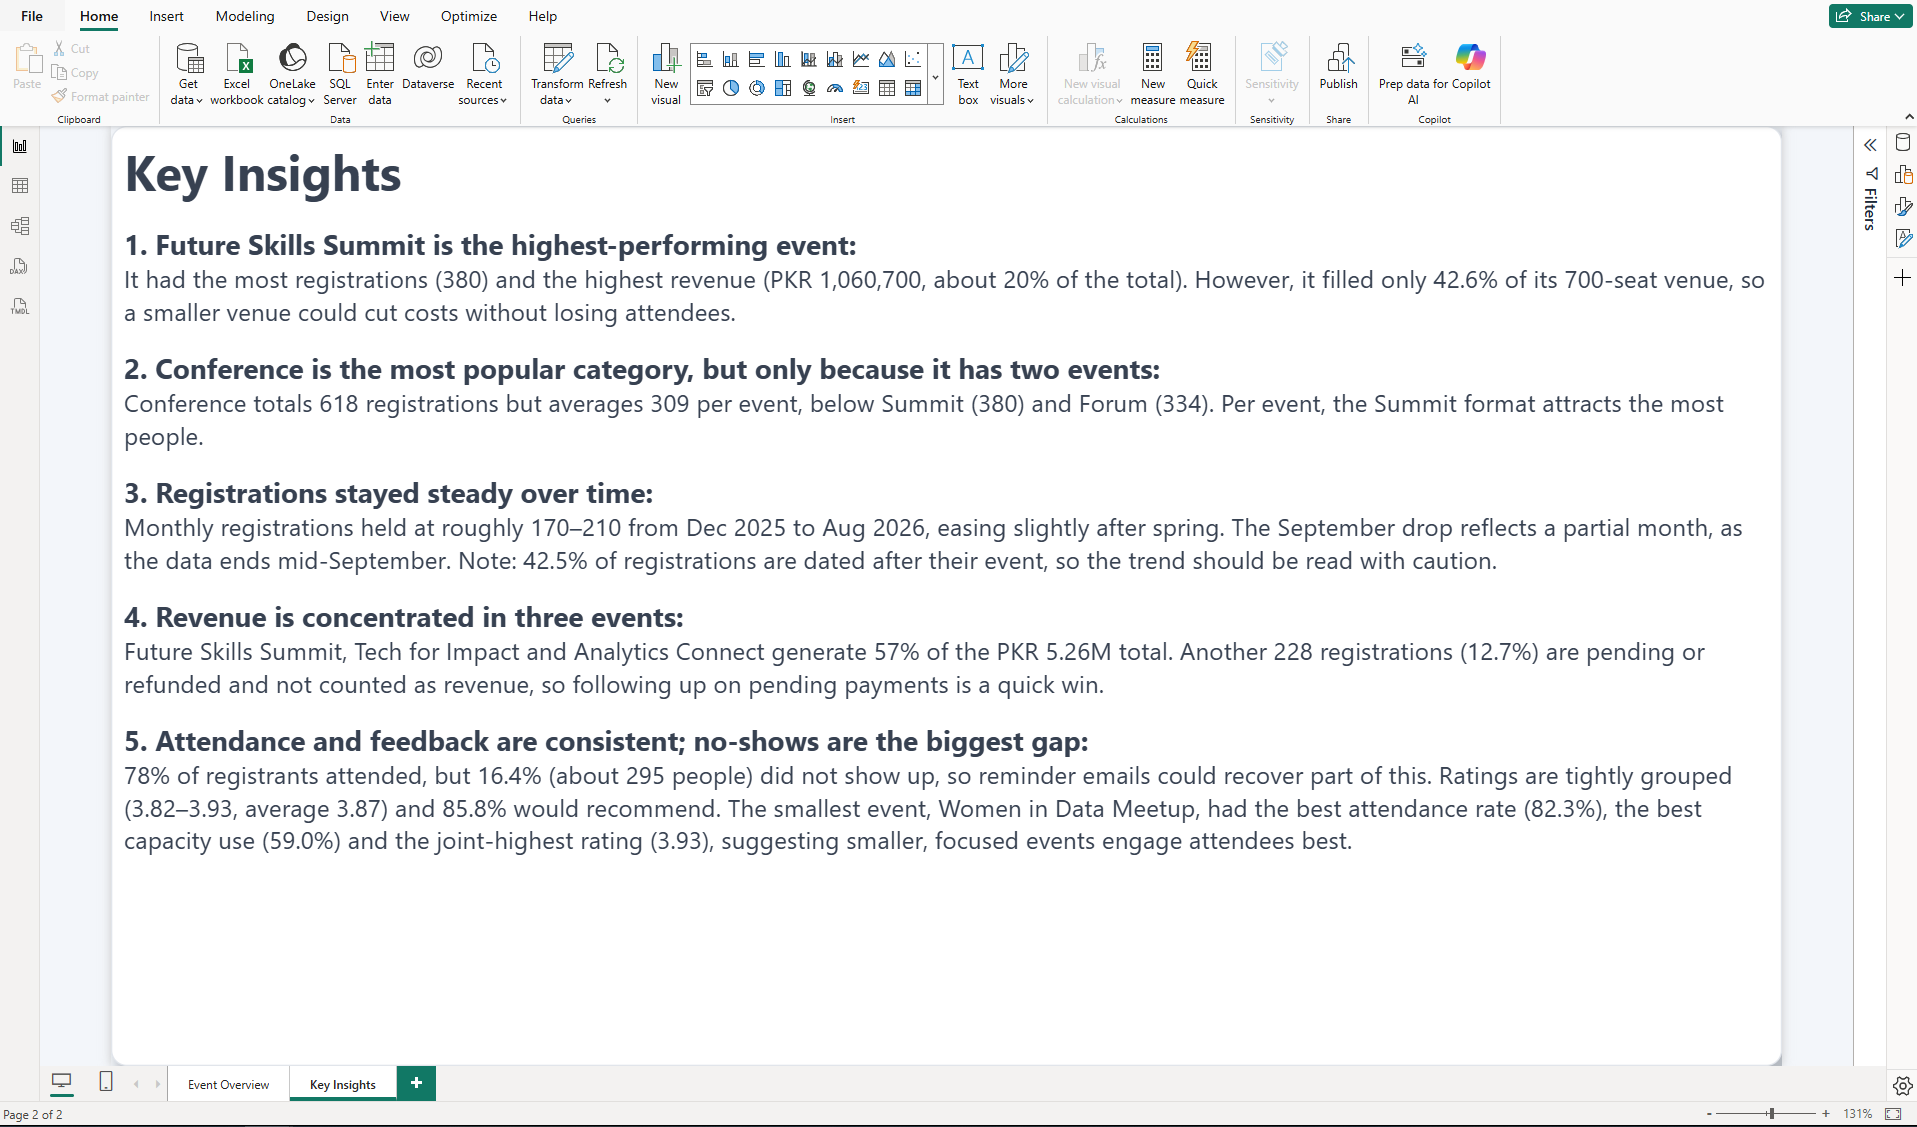

This screenshot's page, from the dashboard's own definition file:
{"tool":"powerbi","page":{"name":"Key Insights","canvas":[1280,720],"ordinal":1},"visuals":[{"type":"textbox","box":[0,0,1280.2,720],"z":0}]}

Visuals, with their boxes on the page's 1280x720 design canvas (x1, y1, x2, y2). These are canvas units, not pixel positions in the 1917x1127 screenshot, which may show the page scaled, cropped or inside an application window:
textbox: box=[0, 0, 1280, 720]
